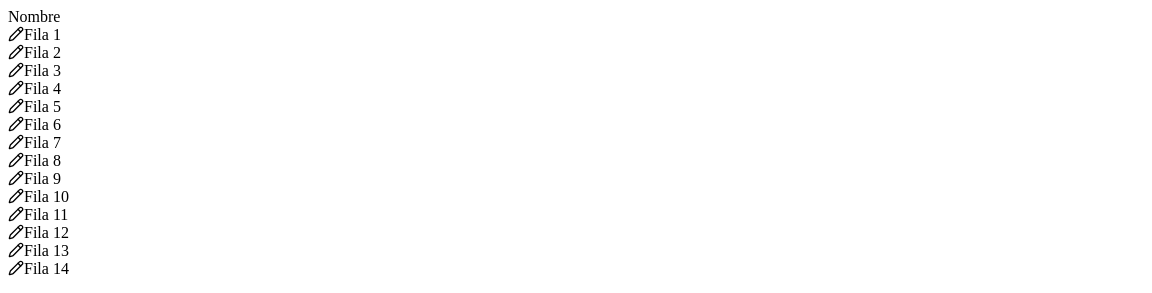
Test case: AdvancedTable — edición y paginación › sin paginación e itemsPerPage menor que las filas, edita la fila real (no la pierde)
Step 1. Click the button with class "cu-editable-cell-view" showing "Fila 13" → (38, 250), box [8,242,69,259]
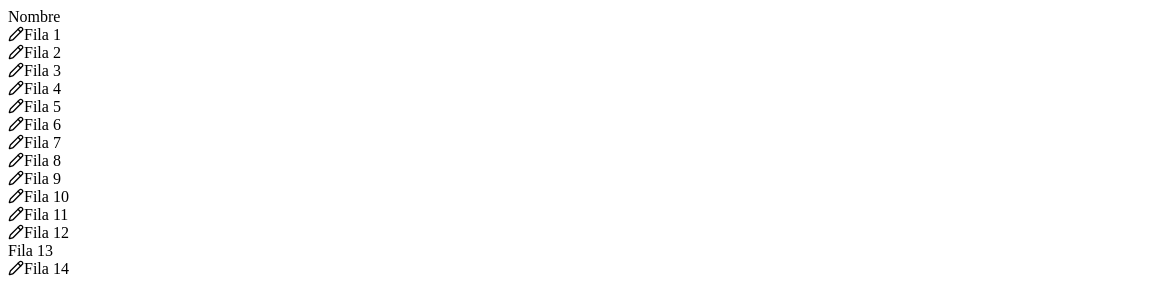
Step 2. Replace the text in the field with class "cu-editable-cell-input" with "EDITADA-13" → (576, 251), box [8,242,1144,260]
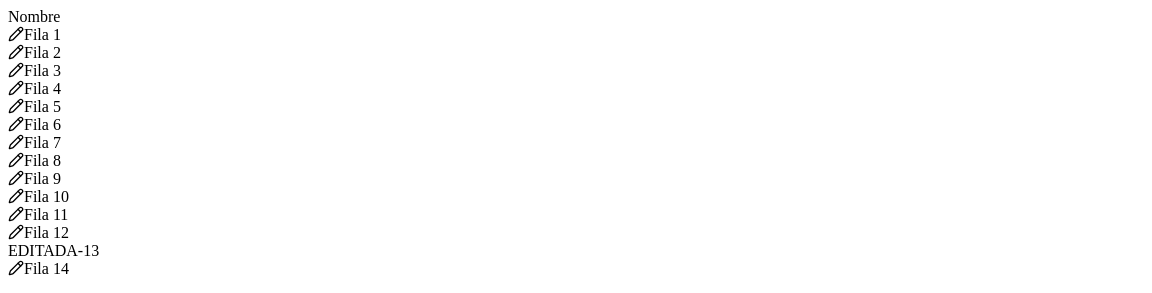
Step 3. Press Enter in the field with class "cu-editable-cell-input", box [8,242,1144,260]
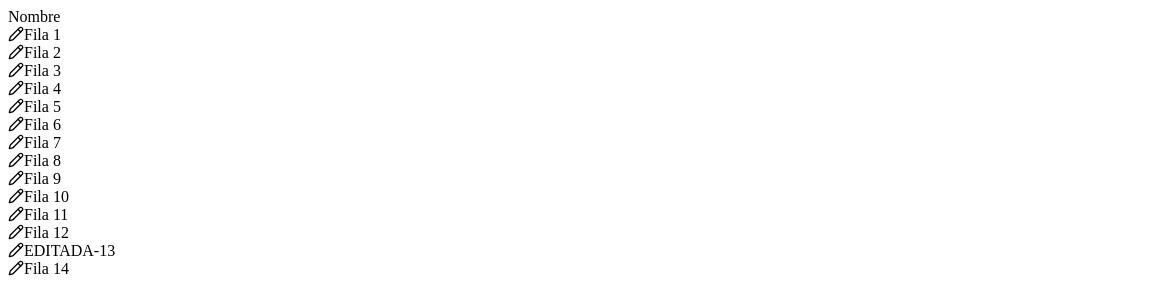
Check: the button "EDITADA-13" is shown, box [8,242,115,259]
